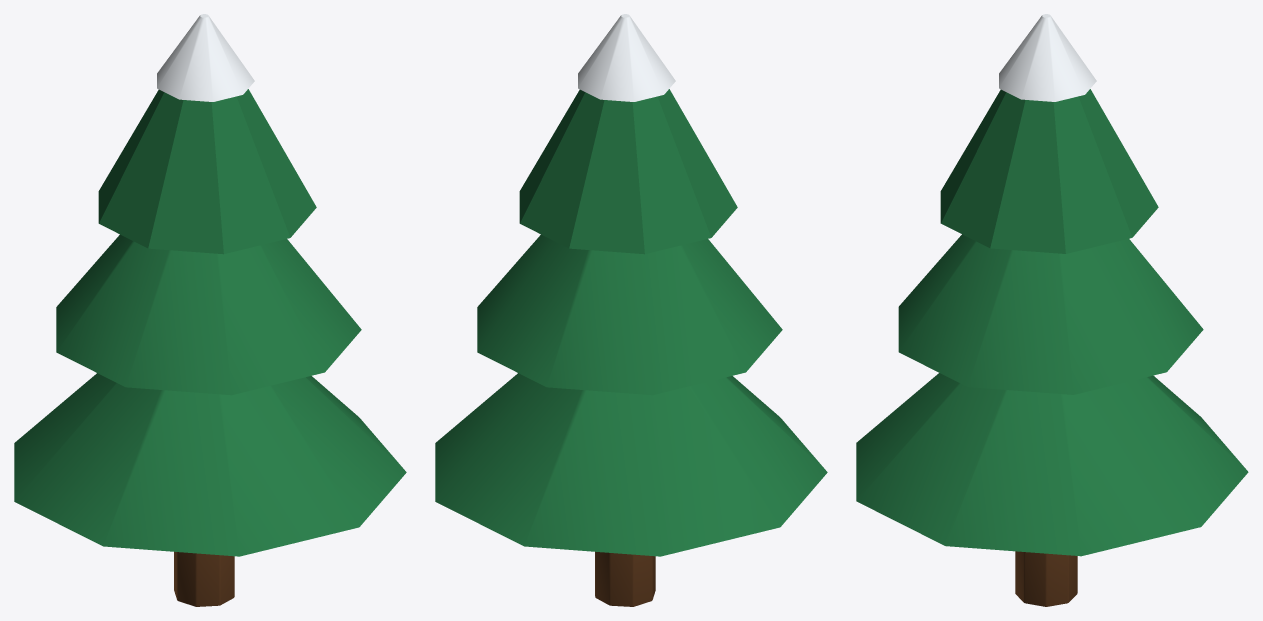
The model's file is Pine.fbx.
3 views of the same model, side by side, from view 1: azimuth 30°, elevation 25°; view 2: azimuth 150°, elevation 25°; view 3: azimuth 270°, elevation 25° (orthographic).
Visible parts, largest first — view 1: Pine; view 2: Pine; view 3: Pine.
Part boxes in pixels (x1,y1,x2,y2): Pine: (14,14,406,606); Pine: (435,14,827,606); Pine: (856,14,1248,606).
Size of the model in its own units: 886 by 1420 by 873.
